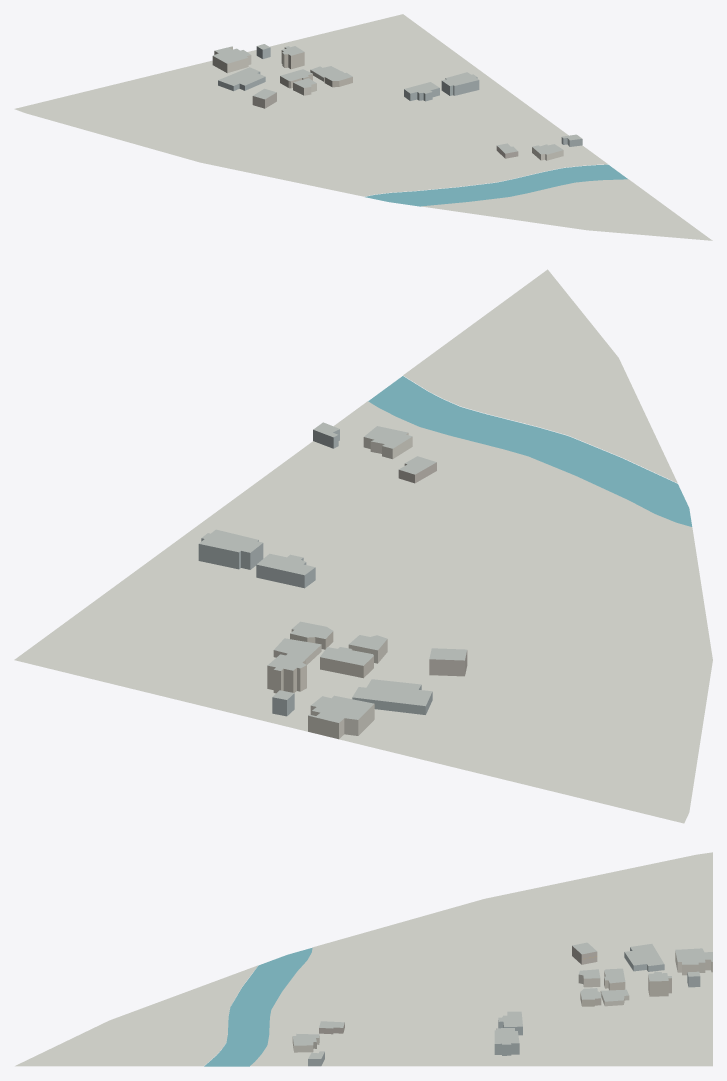
3 renders of one model, top to bottom at view 1: azimuth 30°, elevation 25°; view 2: azimuth 150°, elevation 25°; view 3: azimuth 270°, elevation 25°, orthographic. The views are drawn at different scales.
Parts seen in each view (by area): view 1: city; view 2: city; view 3: city.
Boxes of the visible parts, bbox=[...] form: city: bbox=[14, 14, 712, 240]; city: bbox=[14, 269, 712, 823]; city: bbox=[15, 852, 712, 1066].
Bounding box in the file's own units: 294 × 9.98 × 406.
